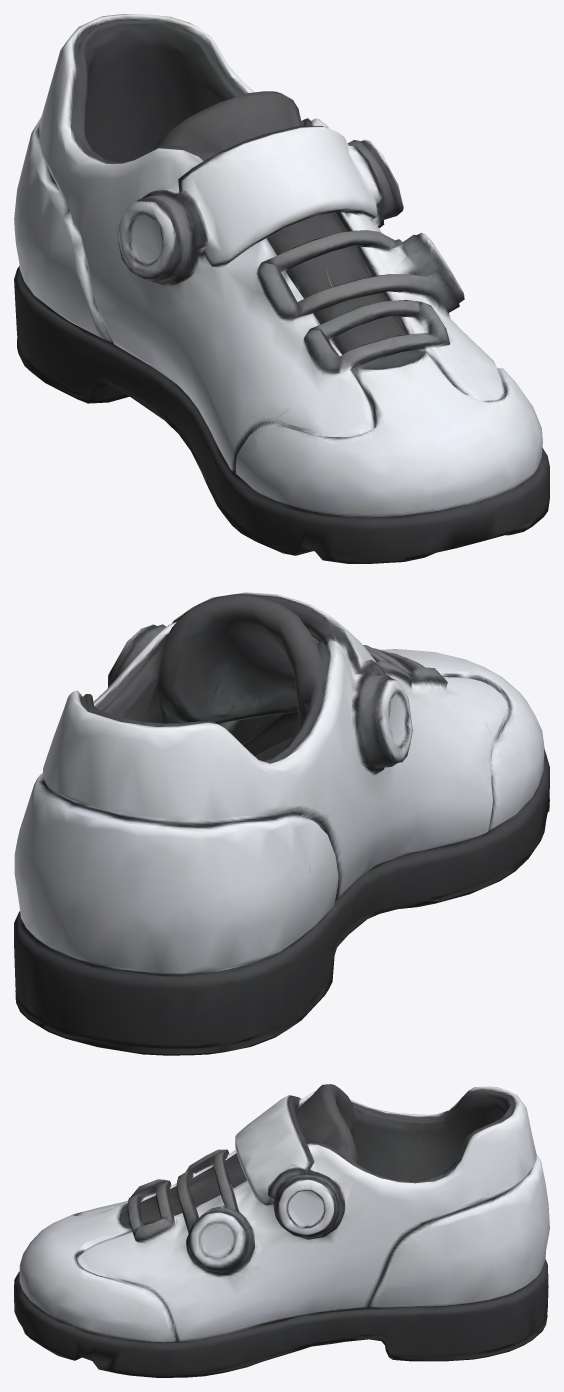
The model's file is shoe-cycling.glb.
3 views of the same model, one above another, from view 1: azimuth 30°, elevation 25°; view 2: azimuth 150°, elevation 25°; view 3: azimuth 270°, elevation 25° (orthographic). The views are drawn at different scales.
Parts seen in each view (by area): view 1: shoe-cycling; view 2: shoe-cycling; view 3: shoe-cycling.
Boxes of the visible parts, box(x1,y1,x2,y2) form: shoe-cycling: box(14, 14, 549, 563); shoe-cycling: box(14, 592, 549, 1055); shoe-cycling: box(14, 1084, 549, 1377).
Size of the model in its own units: 0.4488 by 0.4753 by 1.
Materials: 1 (1 with a texture image).
